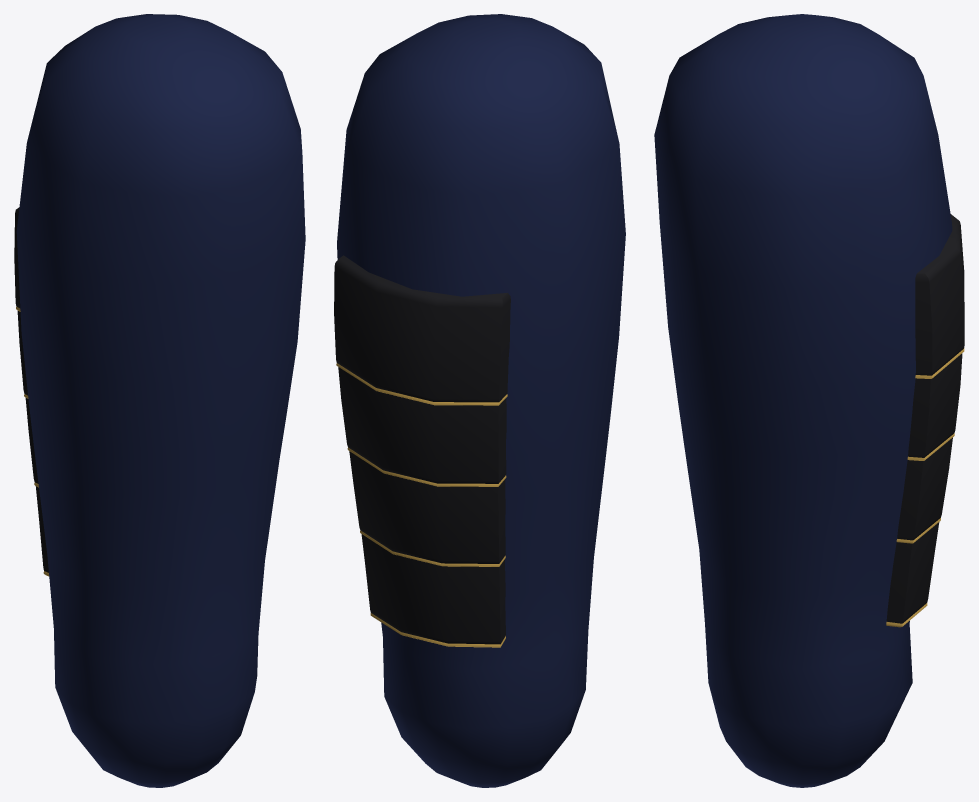
The model's file is thigh_r.glb.
3 renders of one model, left to right at view 1: azimuth 30°, elevation 25°; view 2: azimuth 150°, elevation 25°; view 3: azimuth 270°, elevation 25°, orthographic.
Parts seen in each view (by area): view 1: OUT; view 2: OUT; view 3: OUT.
Boxes of the visible parts, x1=… form: OUT: x1=14, y1=14, x2=305, y2=787; OUT: x1=334, y1=14, x2=625, y2=787; OUT: x1=654, y1=14, x2=964, y2=787.
Bounding box in the file's own units: 0.1779 × 0.504 × 0.1899.
